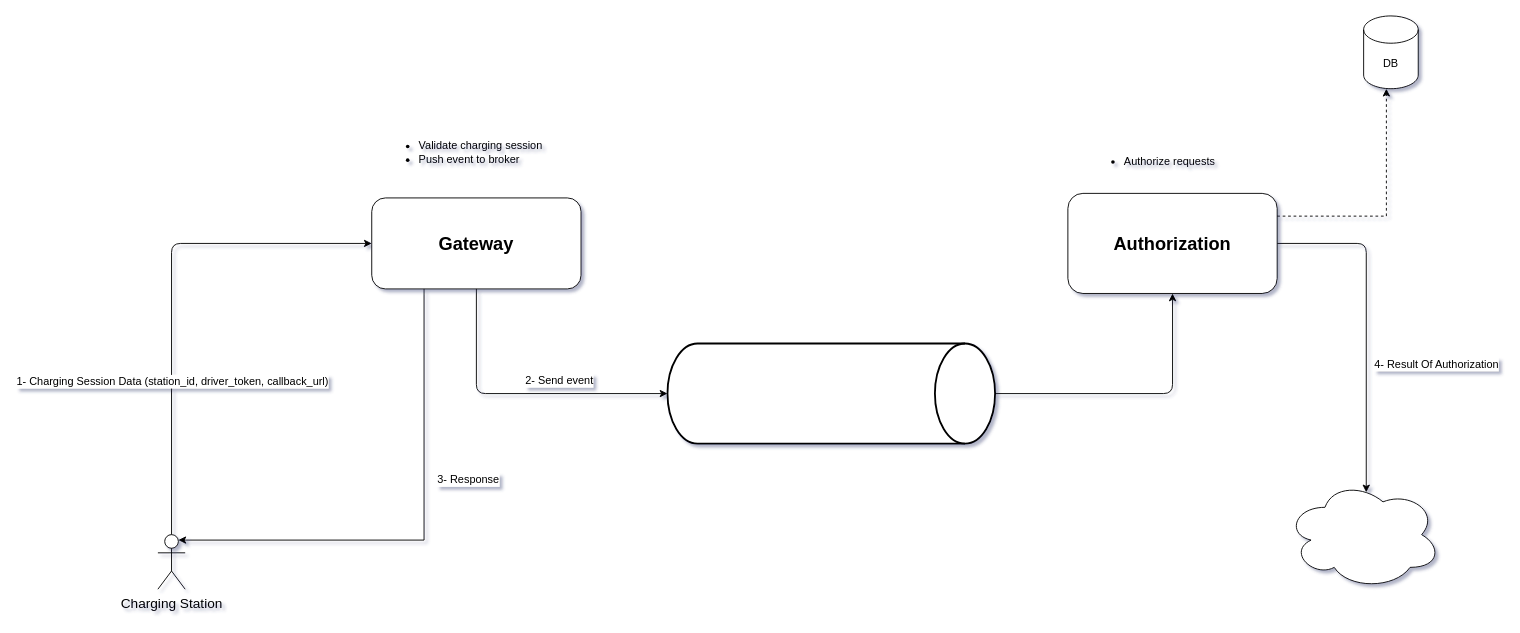
Some shapes in this 1520 by 633 pixel diagram are drawn without their labels. The shapes that lost their labels are listed below. From the top down, each one's centre as x and y in pixels, then its label:
At (831,393): "Broker".
At (1363,534): "CallBack URL".
